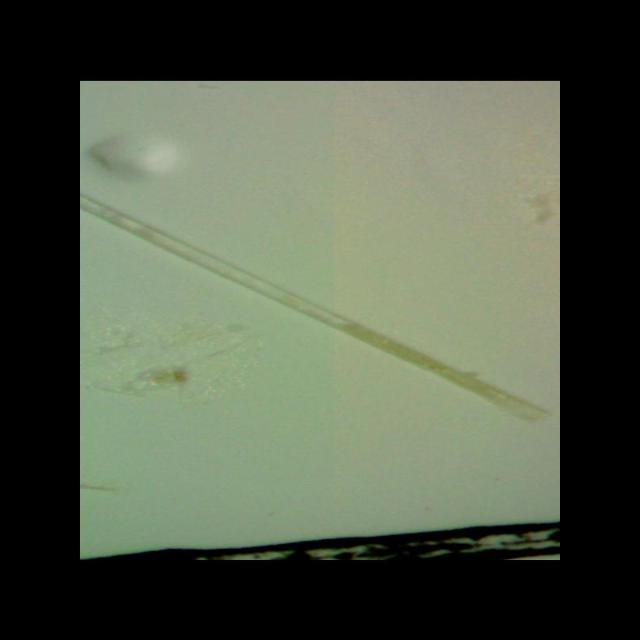Fibre: (80, 154, 556, 424)
